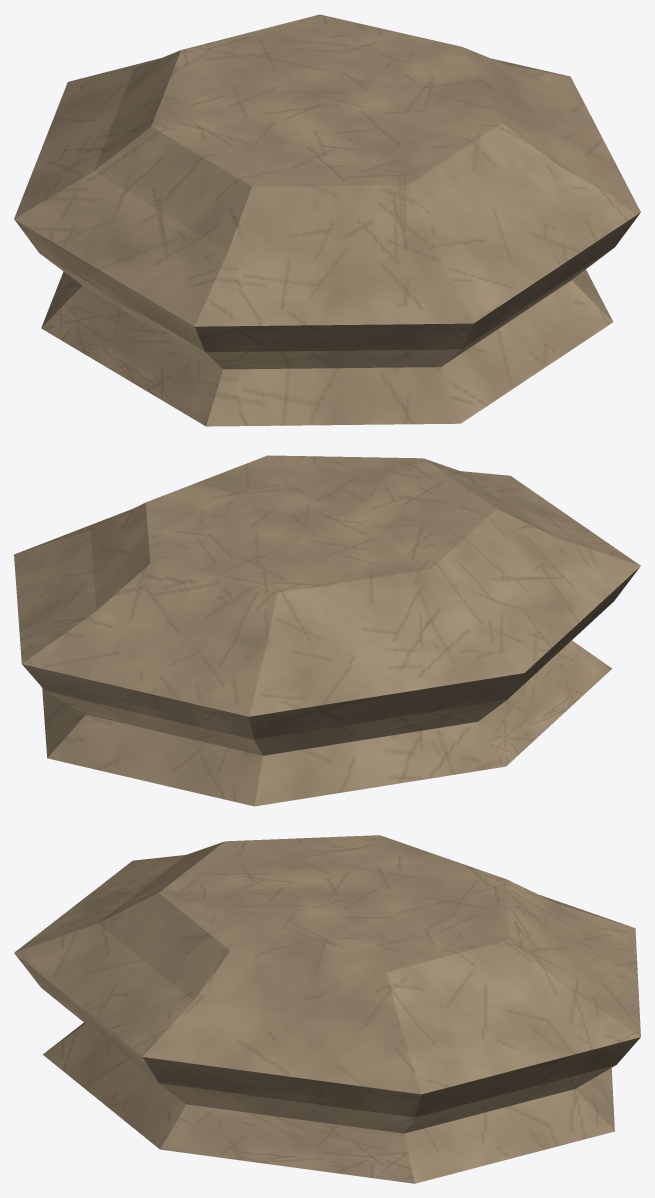
File: prop_rock_e.obj
3 renders of one model, top to bottom at view 1: azimuth 30°, elevation 25°; view 2: azimuth 150°, elevation 25°; view 3: azimuth 270°, elevation 25°, orthographic. The views are drawn at different scales.
Parts seen in each view (by area): view 1: prop_rock_e; view 2: prop_rock_e; view 3: prop_rock_e.
Boxes of the visible parts, x1,y1,x2,y2 form: prop_rock_e: (14, 14, 640, 426); prop_rock_e: (14, 455, 640, 806); prop_rock_e: (14, 835, 640, 1183).
Bounding box in the file's own units: 3.34 × 1.3 × 3.62.
Materials: 1 (1 with a texture image).
